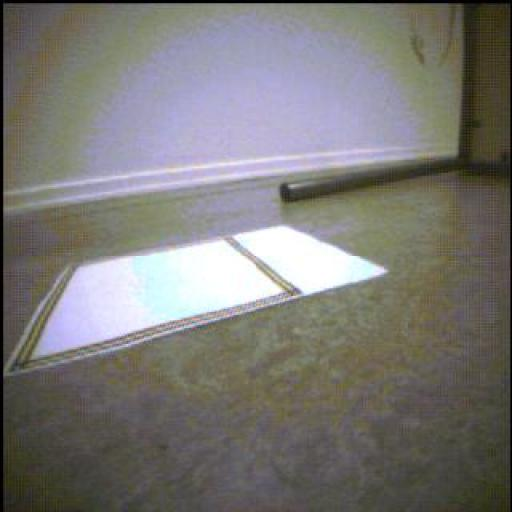Pad: (6, 227, 387, 376)
